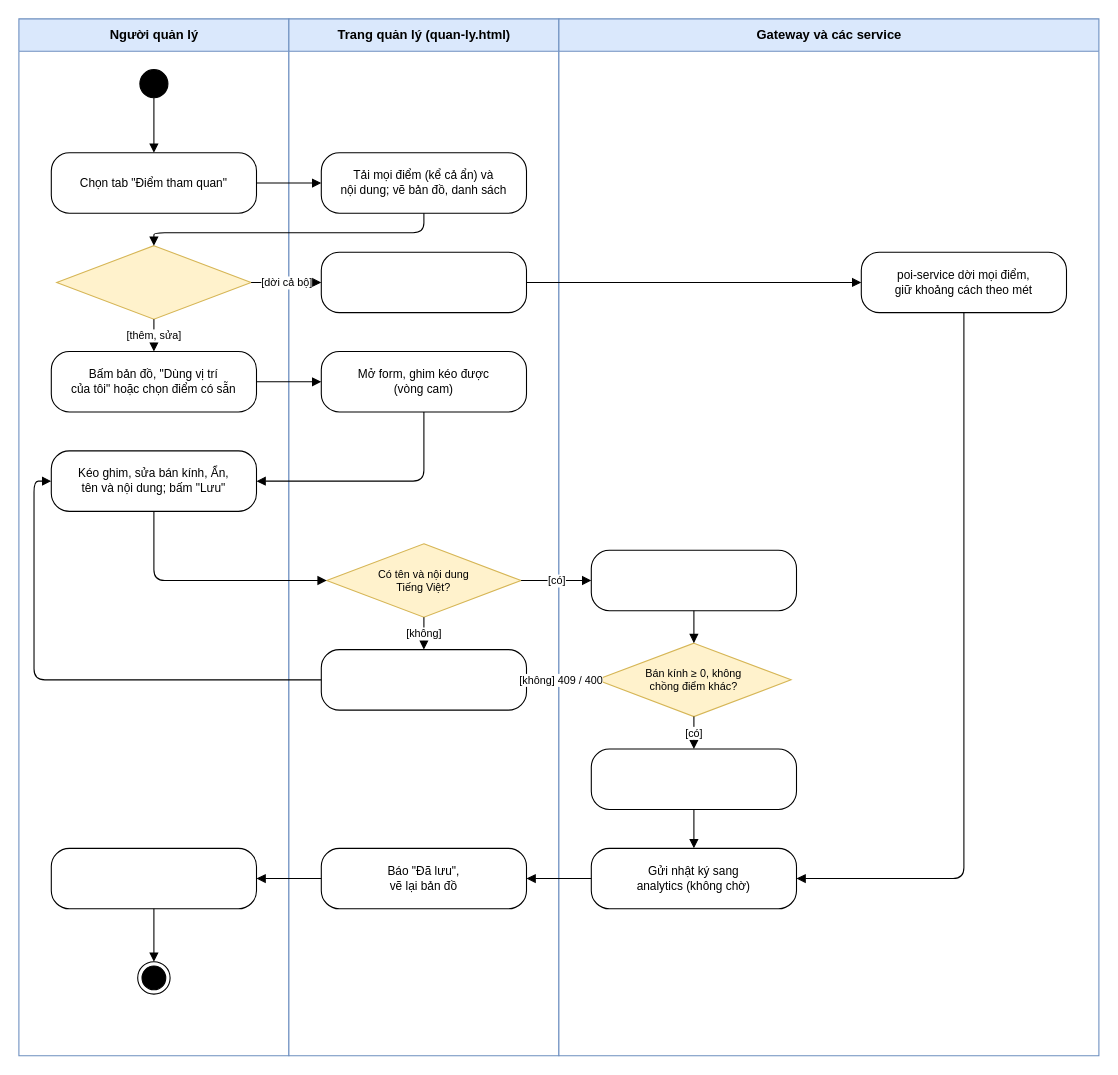
This 1118x1075 diagram has some shape labels left out. Each missing label, with the centre of its shape:
Báo lỗi trên form: point 423,679
Gateway kiểm mật khẩu, gửi tới poi-service: point 693,580
Hỏi xác nhận, lấy vị trí GPS: point 423,282
Lưu điểm; ghi nội dung từng ngôn ngữ (content-service): point 693,778
Việc cần làm?: point 153,282
Xem kết quả, có thể "Xem như du khách": point 153,878
